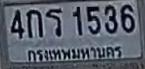1: (72, 6, 81, 34)
3: (104, 4, 117, 33)
4: (10, 9, 23, 38)
5: (86, 5, 100, 34)
6: (120, 3, 134, 32)
A01: (26, 9, 42, 37)
A35: (45, 8, 61, 36)
BKK: (23, 43, 127, 63)
